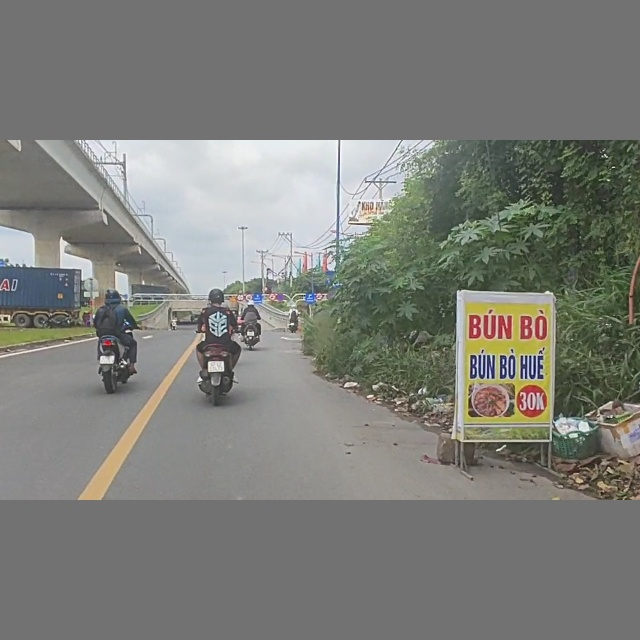P.107: (269, 293, 276, 301), (315, 293, 323, 300)
P.117*: (237, 293, 245, 301)
P.127*40: (245, 294, 253, 301)
P.130: (277, 293, 285, 301)
